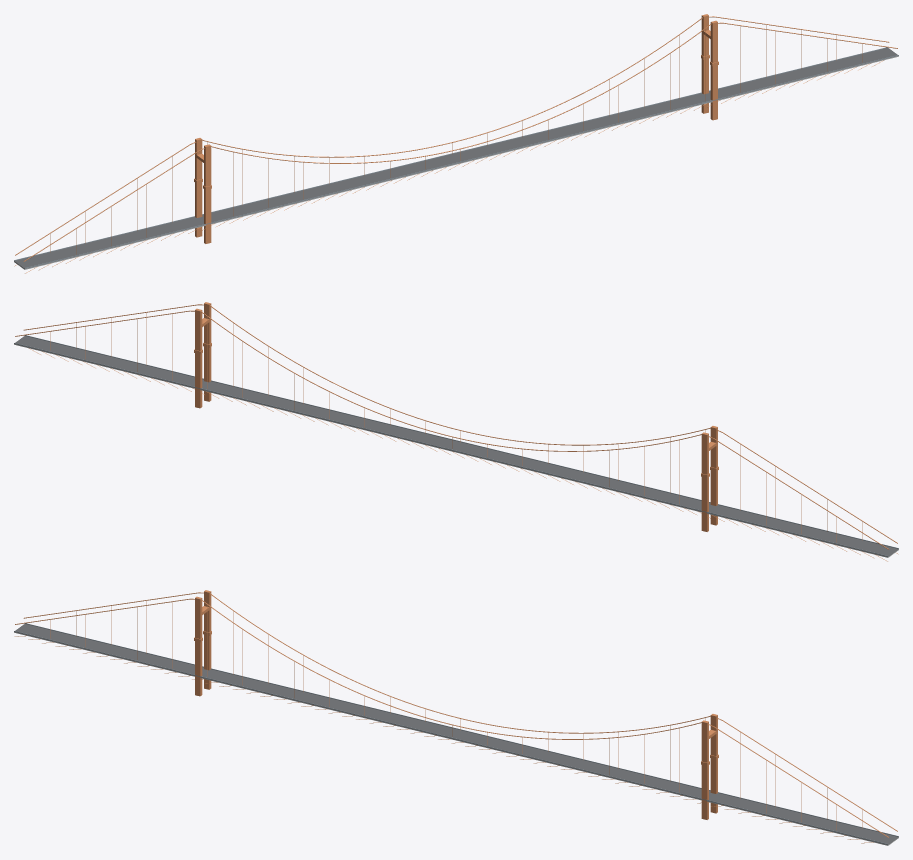
The model's file is source.glb.
3 renders of one model, top to bottom at view 1: azimuth 30°, elevation 25°; view 2: azimuth 150°, elevation 25°; view 3: azimuth 330°, elevation 25°, orthographic.
Parts seen in each view (by area): view 1: worldgen; view 2: worldgen; view 3: worldgen.
Boxes of the visible parts, x1=… form: worldgen: x1=14, y1=14, x2=898, y2=273; worldgen: x1=14, y1=302, x2=898, y2=561; worldgen: x1=14, y1=590, x2=898, y2=845.
Bounding box in the file's own units: 1600 × 170 × 36.56.
